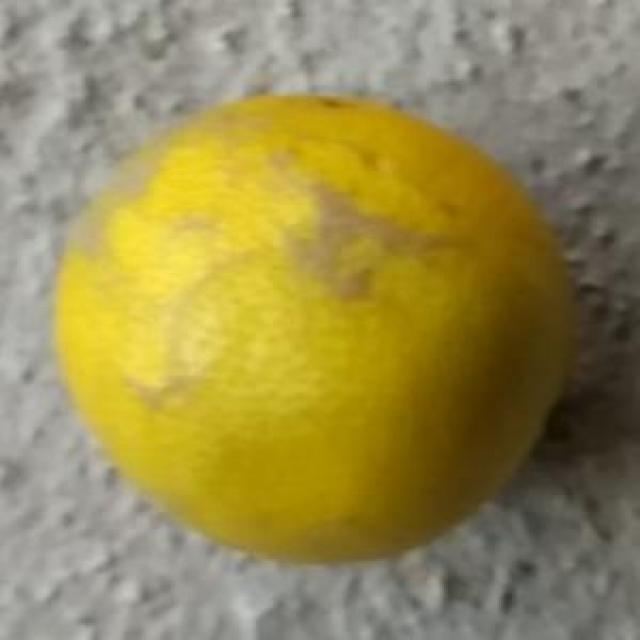lemon: (46, 80, 586, 568)
